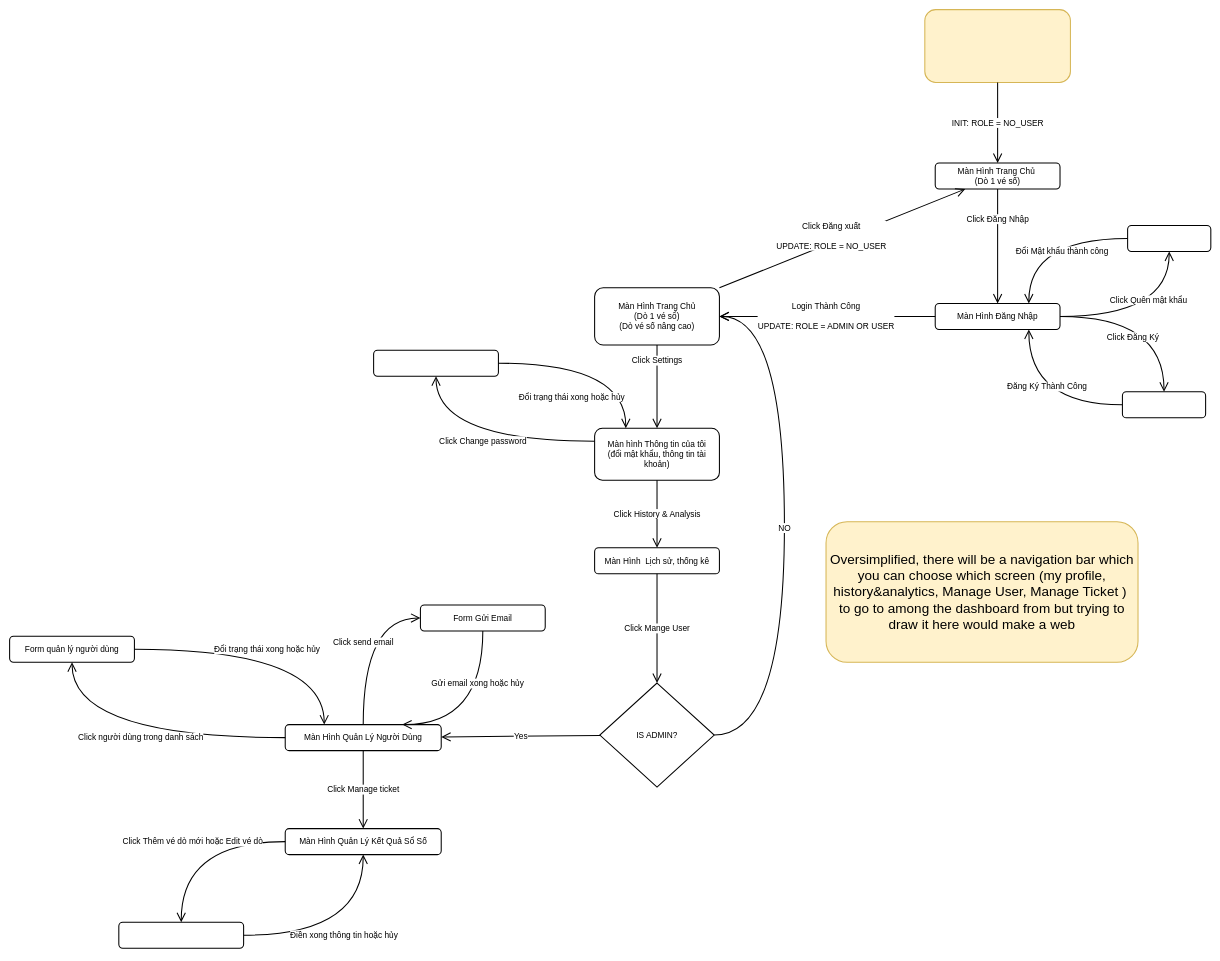
Image size: 1220x961. Some labels were removed from this diagram. The shapes that lost their labels are listed below. From the top down, each one's centre as x and y in pixels, then its label:
At (997,46): "Hệ thống dò vé số".
At (1169,238): "Màn Hình Quên Mật khẩu".
At (436,362): "Form Đổi mật khẩu".
At (1164,404): "Màn Hình Đăng Ký".
At (181,934): "Form Thông tin vé dò".
